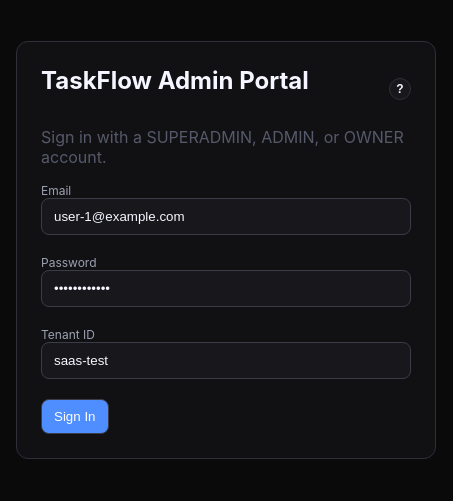
Test: Admin UI behavior › blocks MEMBER login from admin portal
What coordinates should you click on to do the following:
click the button "Sign In"
I would click on:
 (75, 416)
Its box is [41, 399, 108, 434].
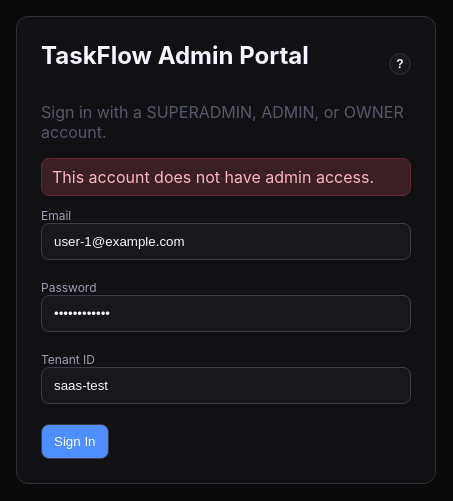
Now the text "This account does not have admin access." is shown, box [41, 158, 411, 196]
